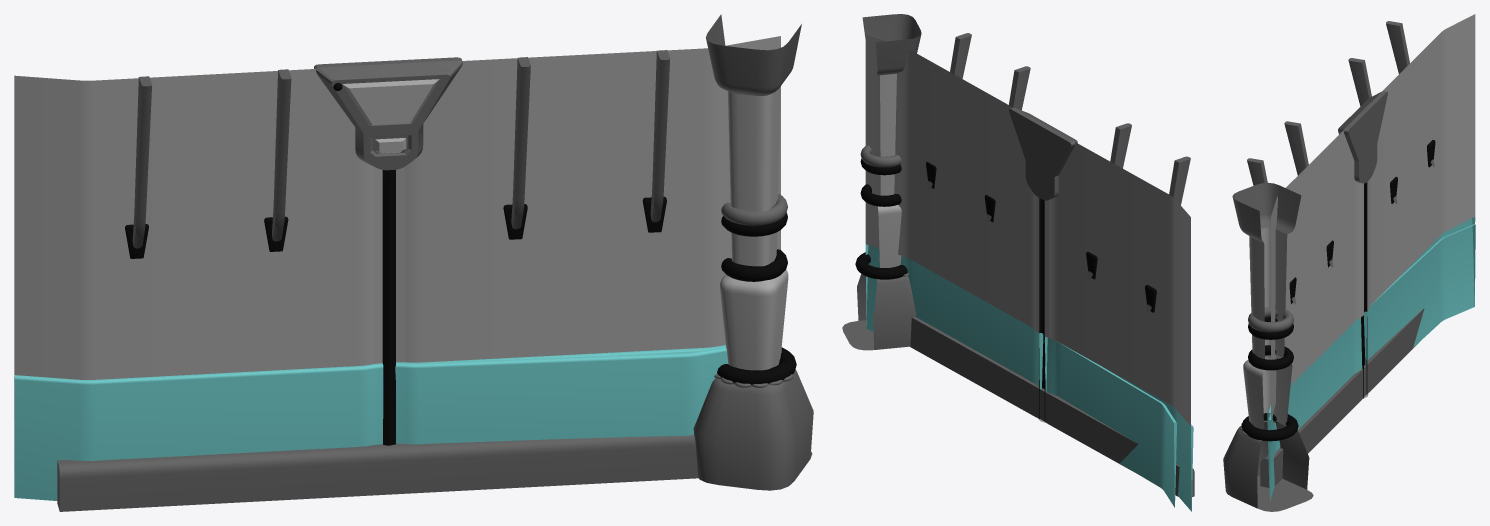
The model's file is wall_with_props.fbx.
3 renders of one model, left to right at view 1: azimuth 30°, elevation 25°; view 2: azimuth 150°, elevation 25°; view 3: azimuth 270°, elevation 25°, orthographic. The views are drawn at different scales.
Parts seen in each view (by area): view 1: Object013, Box053, Object015, Box047, Object014, Box056, Box055, Box054, Box043; view 2: Object013, Object015, Box047, Box043, Box054, Box055, Box056; view 3: Object013, Object015, Box047, Box043, Box055, Box054, Box056, Box053.
Part boxes in pixels (bbox=[...]): Object013: bbox=[14, 14, 813, 511]; Box053: bbox=[58, 434, 698, 511]; Object015: bbox=[337, 346, 728, 446]; Box047: bbox=[314, 57, 462, 170]; Object014: bbox=[342, 79, 439, 153]; Box056: bbox=[642, 50, 670, 232]; Box055: bbox=[503, 57, 530, 239]; Box054: bbox=[264, 69, 291, 251]; Box043: bbox=[125, 76, 152, 258]; Object013: bbox=[842, 14, 1194, 511]; Object015: bbox=[1040, 333, 1176, 507]; Box047: bbox=[1009, 107, 1077, 200]; Box043: bbox=[1145, 156, 1190, 312]; Box054: bbox=[1086, 123, 1131, 279]; Box055: bbox=[984, 66, 1030, 222]; Box056: bbox=[926, 33, 971, 189]; Object013: bbox=[1223, 14, 1475, 511]; Object015: bbox=[1267, 224, 1475, 494]; Box047: bbox=[1338, 91, 1387, 183]; Box043: bbox=[1386, 21, 1435, 167]; Box055: bbox=[1284, 121, 1333, 267]; Box054: bbox=[1348, 58, 1397, 203]; Box056: bbox=[1247, 158, 1296, 304]; Box053: bbox=[1260, 349, 1379, 487].
Bounding box in the file's own units: 58.32 × 38.21 × 29.15.
